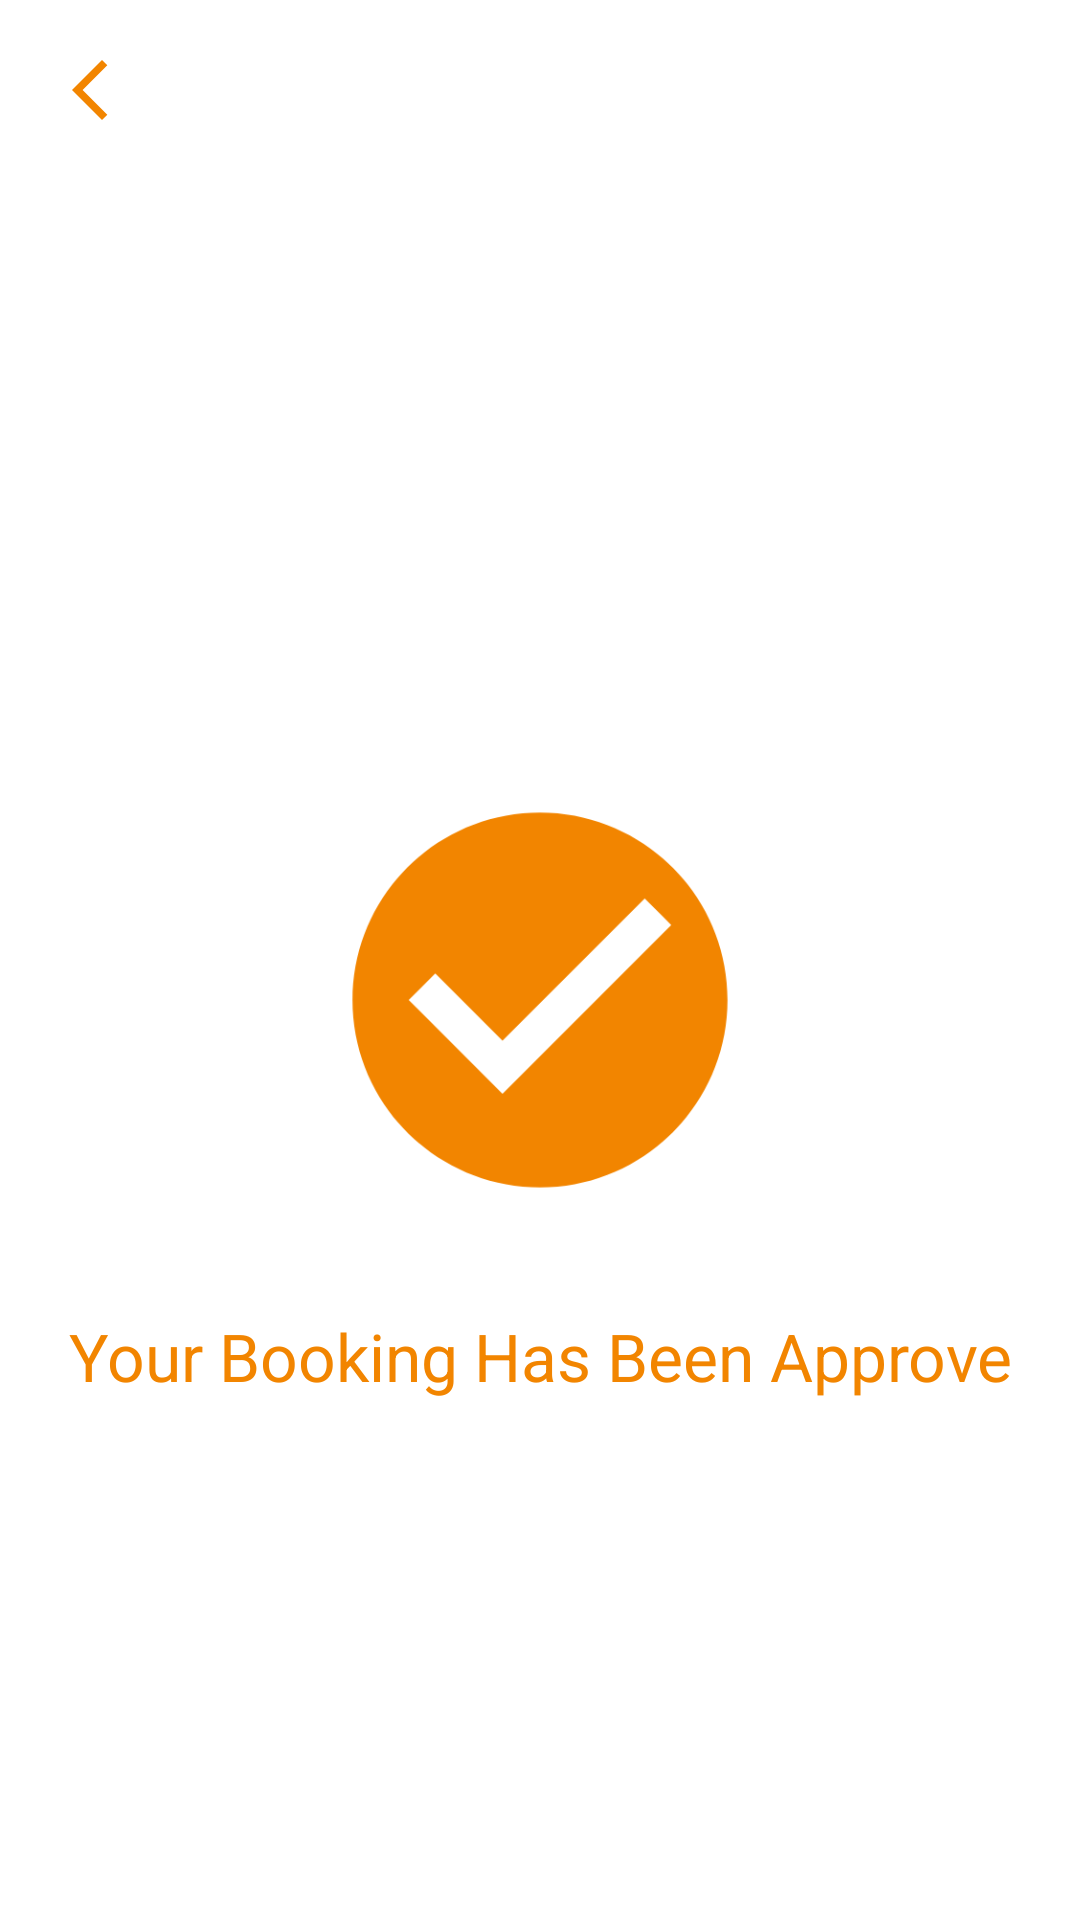

Icon bounding boxes for this 1080w x 1920h phone screenshot, format bbox=(x1, y1, x2, y2):
back: bbox=(72, 60, 107, 120)
